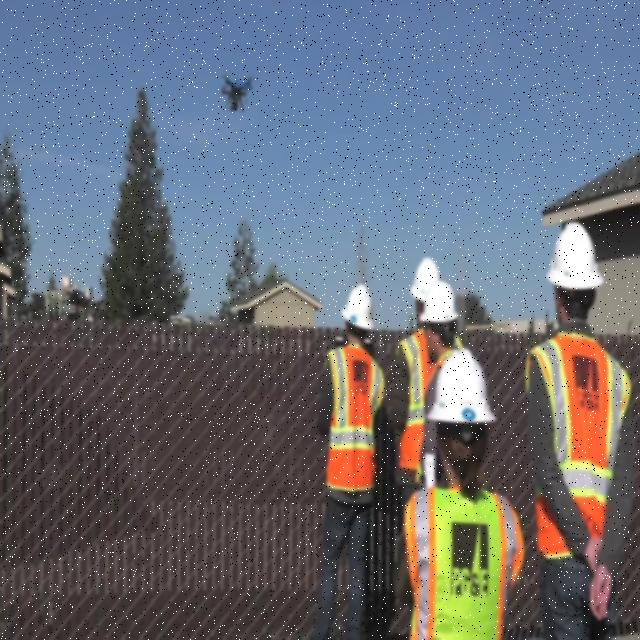UAV: (221, 75, 253, 114)
